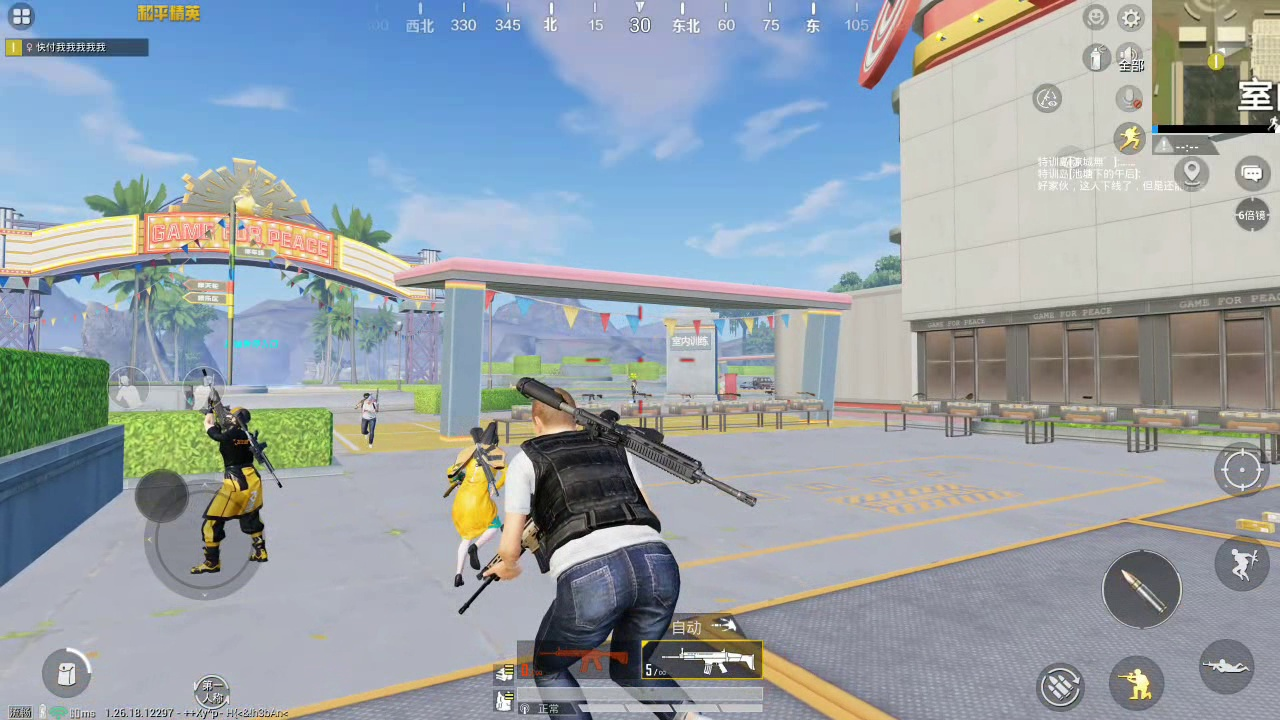enemy: (196, 380, 274, 571), (446, 421, 501, 587), (356, 388, 378, 447)
